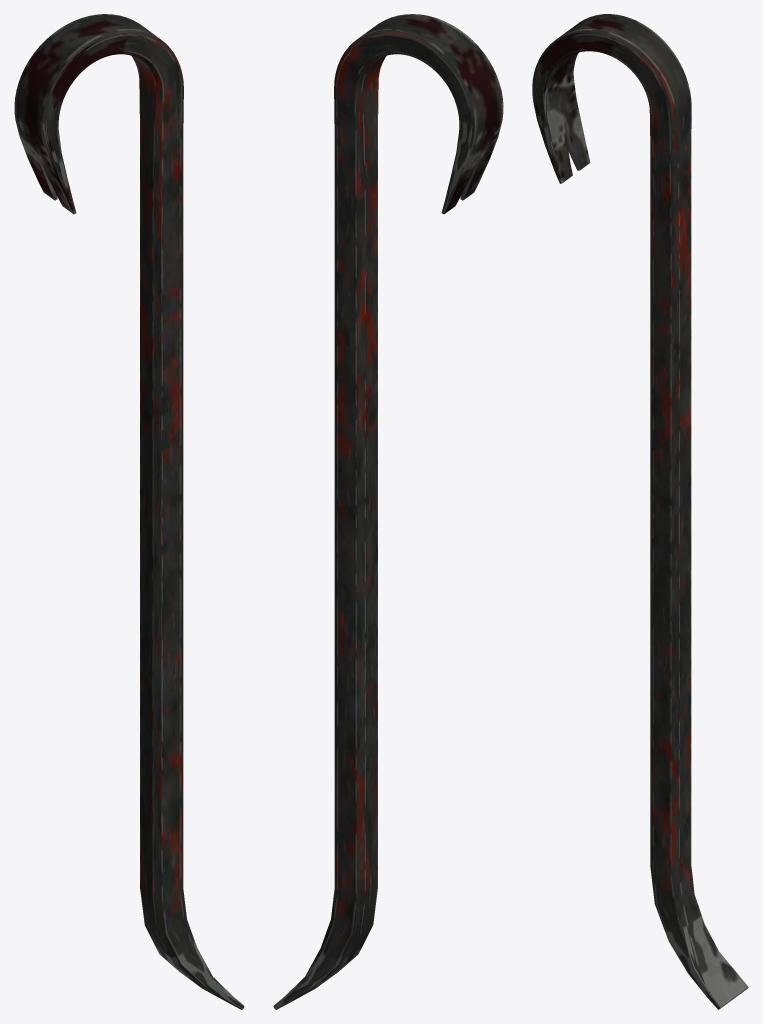
The model's file is crowbar.glb.
The picture shows the model from 3 angles, left to right: view 1: azimuth 30°, elevation 25°; view 2: azimuth 150°, elevation 25°; view 3: azimuth 330°, elevation 25°; orthographic projection. The views are drawn at different scales.
Parts seen in each view (by area): view 1: Crowbar_ForgedSteel; view 2: Crowbar_ForgedSteel; view 3: Crowbar_ForgedSteel.
Boxes of the visible parts, bbox=[...] form: Crowbar_ForgedSteel: bbox=[14, 14, 244, 1009]; Crowbar_ForgedSteel: bbox=[273, 14, 503, 1009]; Crowbar_ForgedSteel: bbox=[532, 14, 748, 1009].
Size of the model in its own units: 0.1466 by 0.7 by 0.0405.
Materials: 1 (1 with a texture image).
